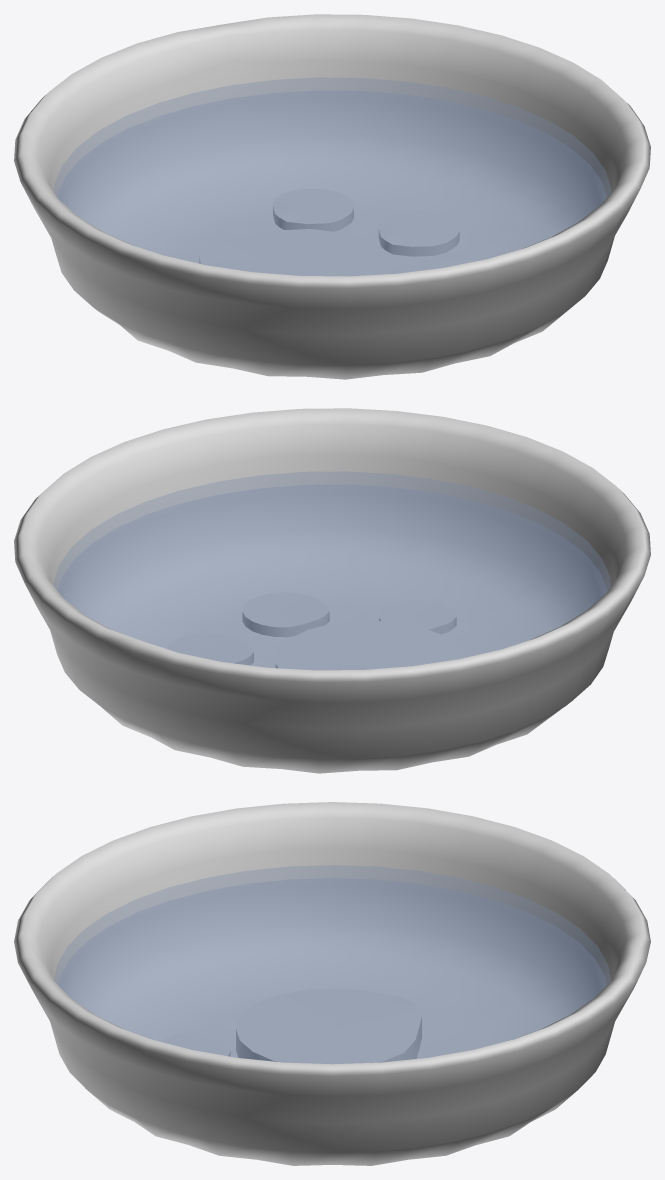
File: gamelle_eau.fbx
The picture shows the model from 3 angles, top to bottom: view 1: azimuth 30°, elevation 25°; view 2: azimuth 150°, elevation 25°; view 3: azimuth 270°, elevation 25°; orthographic projection.
Visible parts, largest first — view 1: pasted__gamelle_eau, pCylinder18, pasted__pasted__pasted__pCylinder1, pasted__pasted__pasted__pasted__pasted__pCylinder1, pasted__pasted__pasted__pasted__pCylinder1; view 2: pasted__gamelle_eau, pCylinder18, pasted__pasted__pasted__pCylinder1, pasted__pasted__pasted__pasted__pasted__pasted__pCylinder1, pasted__pasted__pasted__pasted__pasted__pCylinder1, pasted__pasted__pasted__pasted__pasted__pasted__pasted__pCyl; view 3: pasted__gamelle_eau, pCylinder18, pasted__pasted__pasted__pCylinder1, pasted__pasted__pasted__pasted__pasted__pasted__pasted__pCyl.
Part boxes in pixels (left/top/right/bottom): pasted__gamelle_eau: left=14, top=14, right=650, bottom=379; pCylinder18: left=54, top=77, right=610, bottom=276; pasted__pasted__pasted__pCylinder1: left=199, top=229, right=392, bottom=276; pasted__pasted__pasted__pasted__pasted__pCylinder1: left=378, top=211, right=459, bottom=256; pasted__pasted__pasted__pasted__pCylinder1: left=273, top=188, right=353, bottom=231; pasted__gamelle_eau: left=14, top=408, right=650, bottom=773; pCylinder18: left=54, top=471, right=610, bottom=670; pasted__pasted__pasted__pCylinder1: left=275, top=620, right=463, bottom=670; pasted__pasted__pasted__pasted__pasted__pasted__pCylinder1: left=242, top=592, right=329, bottom=637; pasted__pasted__pasted__pasted__pasted__pCylinder1: left=167, top=633, right=253, bottom=665; pasted__pasted__pasted__pasted__pasted__pasted__pasted__pCyl: left=379, top=600, right=456, bottom=634; pasted__gamelle_eau: left=14, top=802, right=650, bottom=1165; pCylinder18: left=54, top=865, right=610, bottom=1064; pasted__pasted__pasted__pCylinder1: left=236, top=988, right=421, bottom=1064; pasted__pasted__pasted__pasted__pasted__pasted__pasted__pCyl: left=162, top=1033, right=230, bottom=1056.
Bounding box in the file's own units: 0.7213 × 0.1709 × 0.721.
